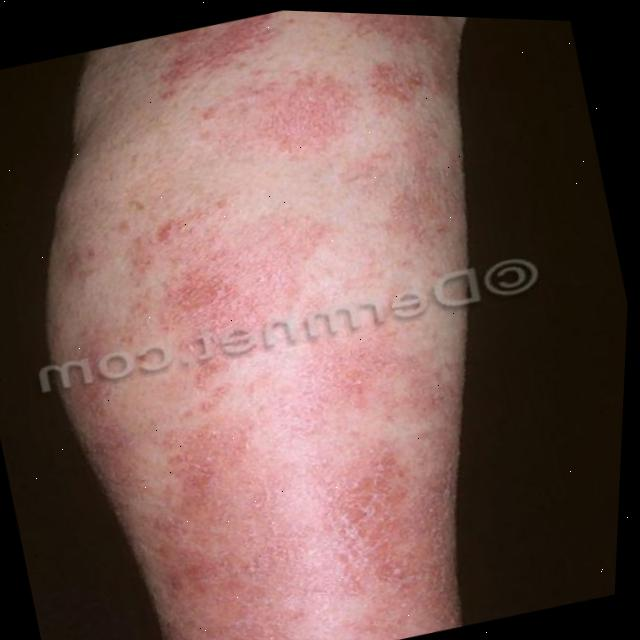Eczema: (24, 2, 562, 640)
